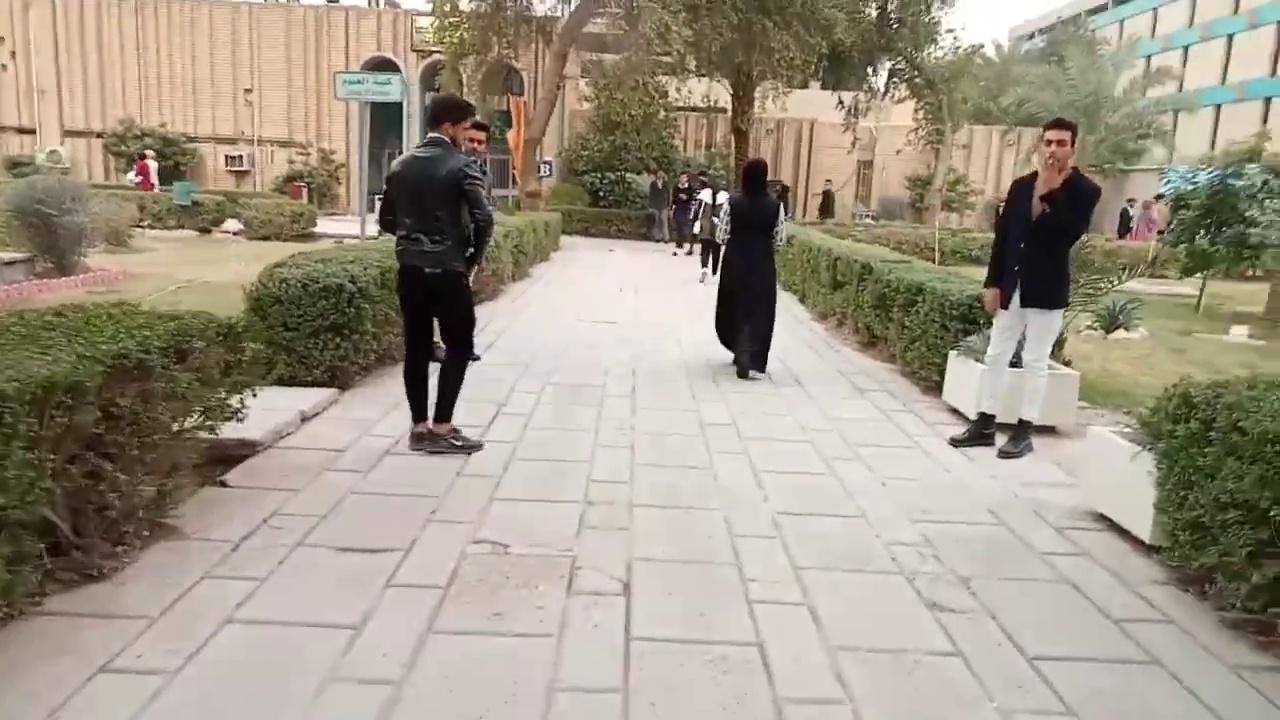person: (946, 116, 1102, 458), (377, 92, 494, 451), (713, 157, 786, 379), (430, 119, 494, 362), (689, 173, 730, 284), (669, 171, 696, 255), (647, 169, 671, 243), (1131, 199, 1158, 241), (1116, 197, 1137, 240), (129, 151, 151, 191), (1152, 193, 1171, 235), (816, 179, 835, 220), (143, 149, 160, 192)
tree: (421, 0, 955, 213), (0, 296, 285, 623), (996, 9, 1201, 236), (424, 0, 638, 211), (631, 0, 861, 194), (1130, 371, 1279, 615), (1155, 125, 1278, 316), (557, 51, 693, 210), (896, 41, 994, 261), (816, 0, 953, 156), (1, 143, 134, 281), (1050, 230, 1162, 364), (97, 114, 200, 188), (270, 142, 346, 212), (902, 164, 983, 227), (1088, 295, 1144, 335), (902, 167, 934, 223)
